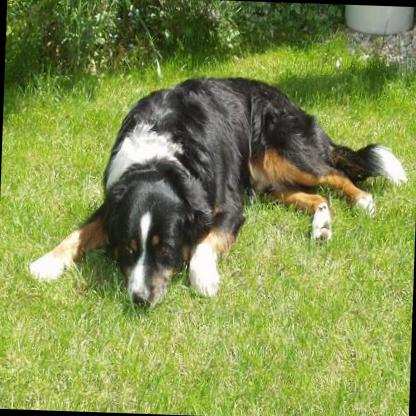Appenzeller: (23, 67, 410, 321)
